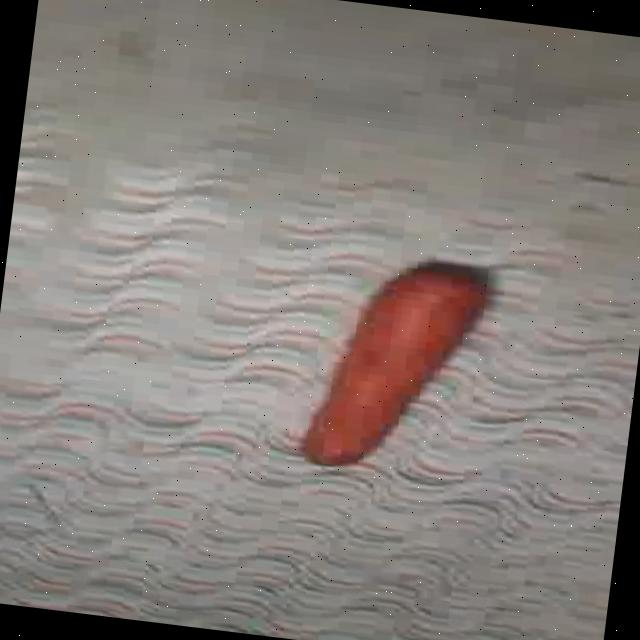carrot: (305, 263, 486, 465)
